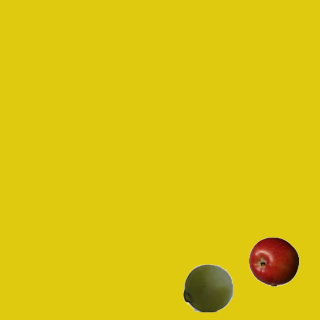Apple Braeburn: (248, 236, 298, 286)
Grape White 4: (182, 262, 232, 312)
